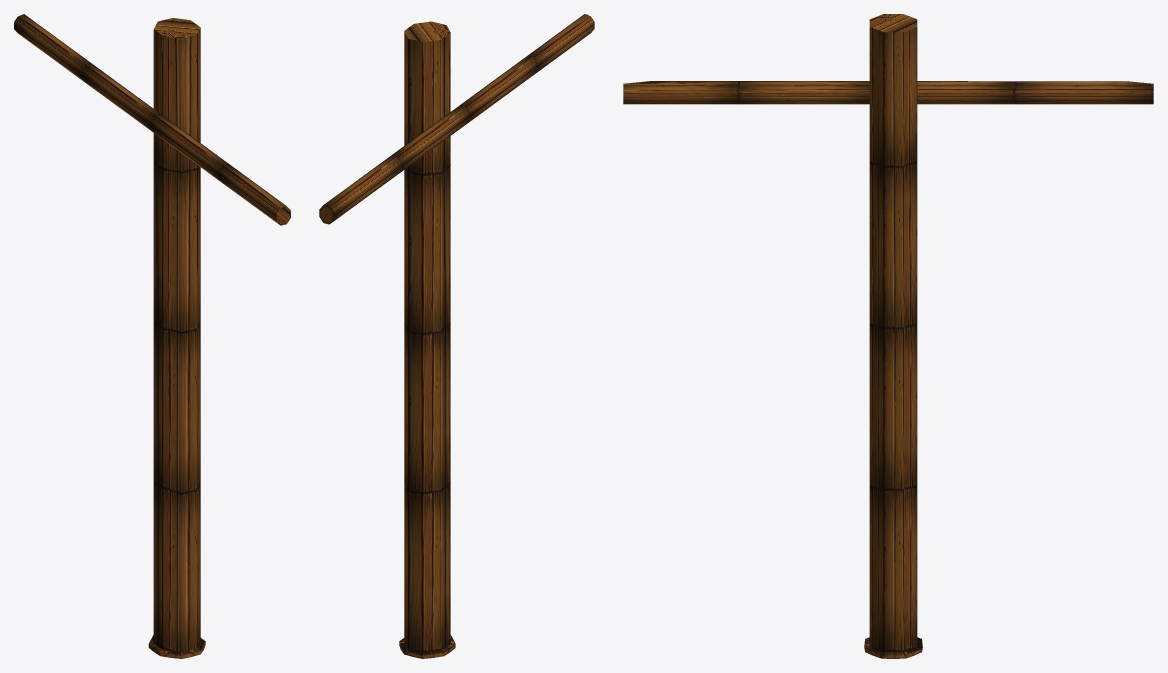
Rendered from Bateau_Mat.fbx.
3 views of the same model, side by side, from view 1: azimuth 30°, elevation 25°; view 2: azimuth 150°, elevation 25°; view 3: azimuth 270°, elevation 25° (orthographic).
Parts seen in each view (by area): view 1: polySurface2; view 2: polySurface2; view 3: polySurface2.
Part boxes in pixels (box(x1,y1,x2,y2)): polySurface2: box(14, 14, 290, 658); polySurface2: box(319, 14, 594, 658); polySurface2: box(623, 14, 1153, 658).
Bounding box in the file's own units: 0.6324 × 6.48 × 4.99.
Materials: 2 (2 with a texture image).
